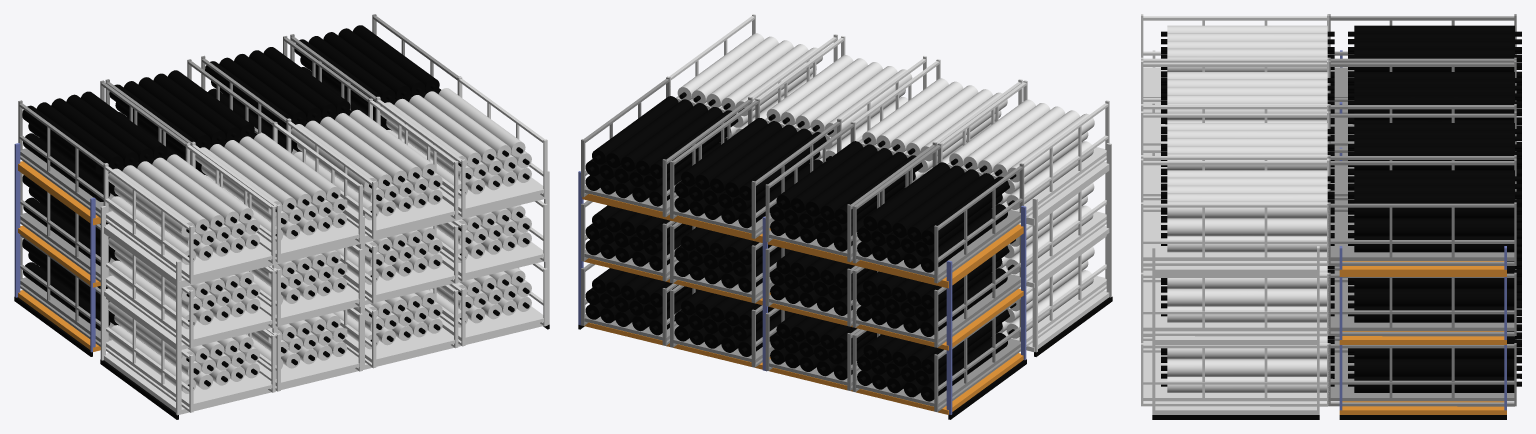
The model's file is rack.glb.
3 renders of one model, left to right at view 1: azimuth 30°, elevation 25°; view 2: azimuth 150°, elevation 25°; view 3: azimuth 270°, elevation 25°, orthographic. The views are drawn at different scales.
Parts seen in each view (by area): view 1: Body12.025, Body2.025, Body11.025, Body1.009, Body1.011, Body1.001, Body1.023, Body1.005, Body1.017, Body1.021, Body1.007, Body1.019 (+89 smaller); view 2: Body12.024, Body11.024, Body2.024, Body1.008, Body1.010, Body1, Body397, Body380, Body185, Body338, Body185.001, Body397.001 (+95 smaller); view 3: Body347, Body347.001, Body228, Body155, Body228.001, Body155.001, Body1.019, Body1.018, Body349, Body349.001, Body1.021, Body1.007 (+100 smaller).
Part boxes in pixels (x1=…): Body12.025: x1=104, y1=191, x2=549, y2=288; Body2.025: x1=104, y1=320, x2=549, y2=414; Body11.025: x1=104, y1=255, x2=549, y2=350; Body1.009: x1=106, y1=275, x2=272, y2=342; Body1.011: x1=106, y1=211, x2=272, y2=278; Body1.001: x1=106, y1=340, x2=272, y2=406; Body1.023: x1=342, y1=199, x2=454, y2=233; Body1.005: x1=342, y1=328, x2=454, y2=362; Body1.017: x1=342, y1=263, x2=454, y2=298; Body1.021: x1=438, y1=177, x2=543, y2=211; Body1.007: x1=438, y1=306, x2=543, y2=340; Body1.019: x1=438, y1=241, x2=543, y2=276; Body12.024: x1=582, y1=194, x2=1023, y2=288; Body11.024: x1=584, y1=258, x2=1023, y2=350; Body2.024: x1=584, y1=322, x2=1023, y2=414; Body1.008: x1=856, y1=274, x2=1020, y2=342; Body1.010: x1=856, y1=210, x2=1020, y2=278; Body1: x1=856, y1=338, x2=1020, y2=407; Body397: x1=892, y1=169, x2=979, y2=237; Body380: x1=710, y1=124, x2=796, y2=193; Body185: x1=805, y1=148, x2=892, y2=216; Body338: x1=621, y1=103, x2=707, y2=171; Body185.001: x1=891, y1=85, x2=978, y2=152; Body397.001: x1=978, y1=106, x2=1065, y2=173; Body347: x1=1354, y1=219, x2=1514, y2=236; Body347.001: x1=1167, y1=219, x2=1326, y2=236; Body228: x1=1354, y1=289, x2=1514, y2=306; Body155: x1=1354, y1=359, x2=1514, y2=376; Body228.001: x1=1167, y1=289, x2=1326, y2=306; Body155.001: x1=1167, y1=359, x2=1326, y2=376; Body1.019: x1=1143, y1=282, x2=1326, y2=331; Body1.018: x1=1330, y1=282, x2=1514, y2=331; Body349: x1=1354, y1=201, x2=1514, y2=218; Body349.001: x1=1167, y1=201, x2=1327, y2=218; Body1.021: x1=1143, y1=212, x2=1326, y2=260; Body1.007: x1=1143, y1=352, x2=1326, y2=401.
Size of the model in its own units: 5.35 by 2.67 by 4.34.
